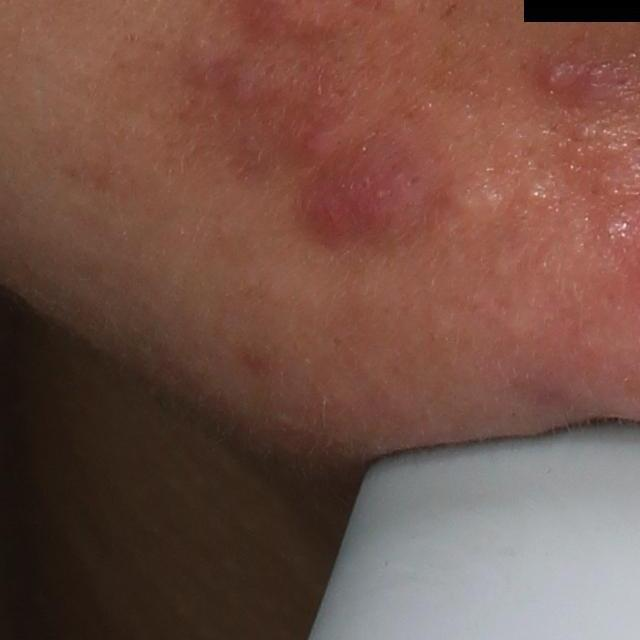hypertrophic_scar: (442, 167, 510, 220)
papule: (223, 53, 274, 115), (538, 49, 589, 102), (179, 33, 227, 88), (289, 121, 341, 169)
